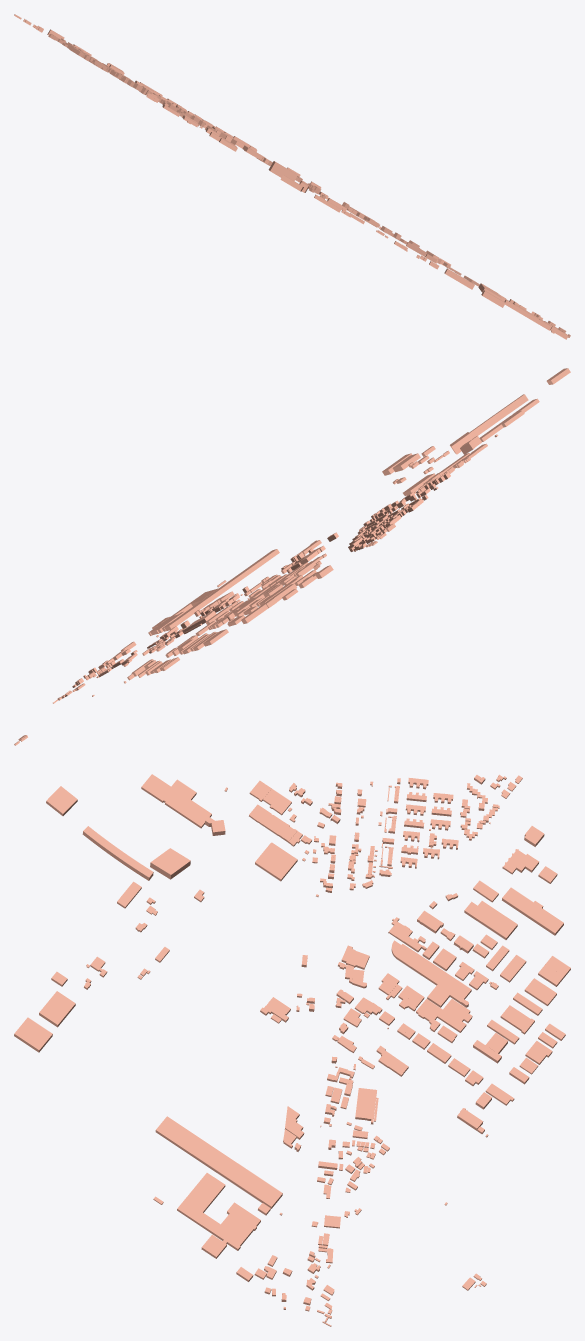
3 views of the same model, one above another, from view 1: azimuth 30°, elevation 25°; view 2: azimuth 150°, elevation 25°; view 3: azimuth 270°, elevation 25° (orthographic). The views are drawn at different scales.
Bounding box in the file's own units: 977 × 762 × 1093.
